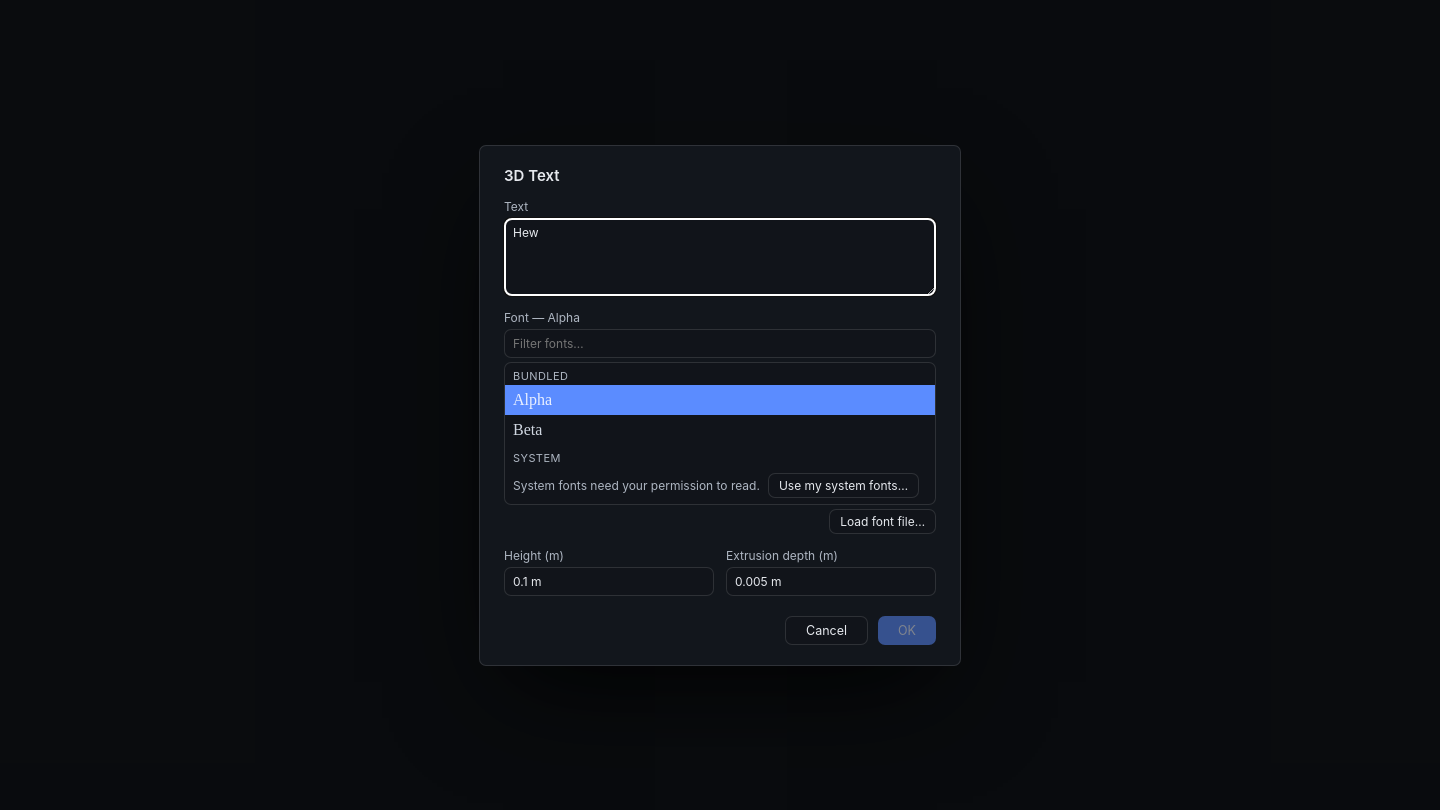
Test: TextDialog font picker › system fonts: web (queryLocalFonts) provider › shows a permission affordance and only lists after the explicit gesture
expect the text "Alpha" is shown: met, box [513,390,552,408]
expect the text "Menlo" is not shown: met
Click the button "Use my system fonts…" at [843, 485], box [768,472,919,498]
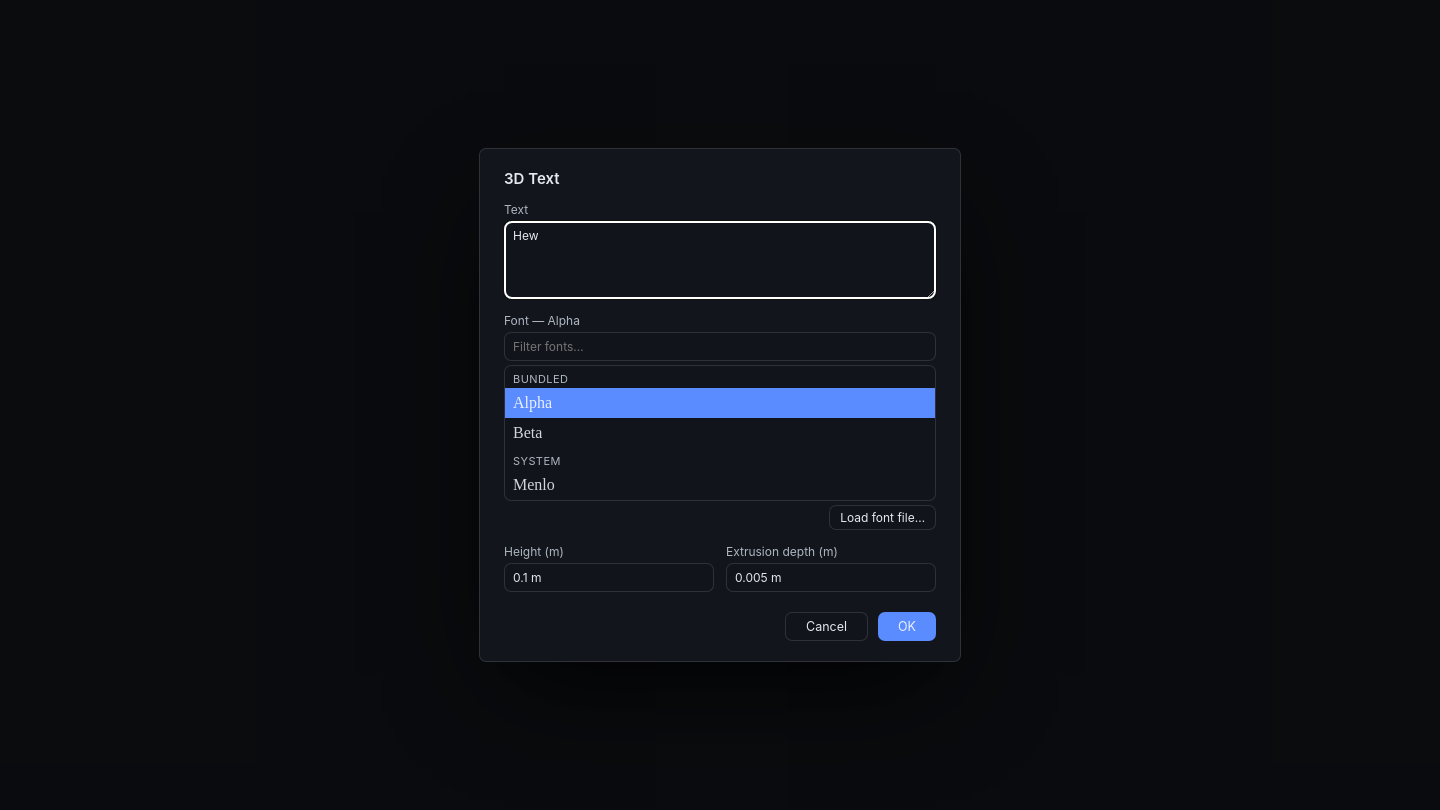
expect the text "Menlo" is shown: met, box [513,476,555,494]
